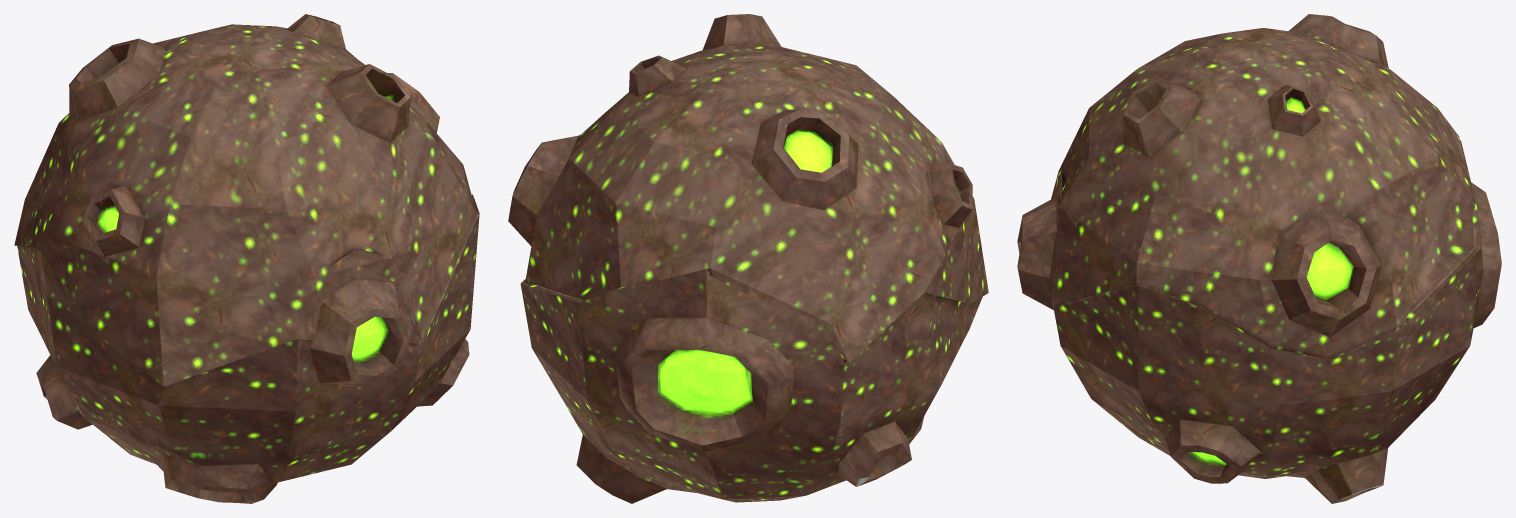
Rendered from meteorite.glb.
3 views of the same model, side by side, from view 1: azimuth 30°, elevation 25°; view 2: azimuth 150°, elevation 25°; view 3: azimuth 270°, elevation 25° (orthographic). The views are drawn at different scales.
Parts seen in each view (by area): view 1: polySurface16; view 2: polySurface16; view 3: polySurface16.
Boxes of the visible parts, x1,y1,x2,y2 form: polySurface16: (14, 14, 479, 503); polySurface16: (508, 14, 988, 503); polySurface16: (1017, 14, 1501, 503).
Size of the model in its own units: 179 by 181 by 192.
Materials: 2 (2 with a texture image).
